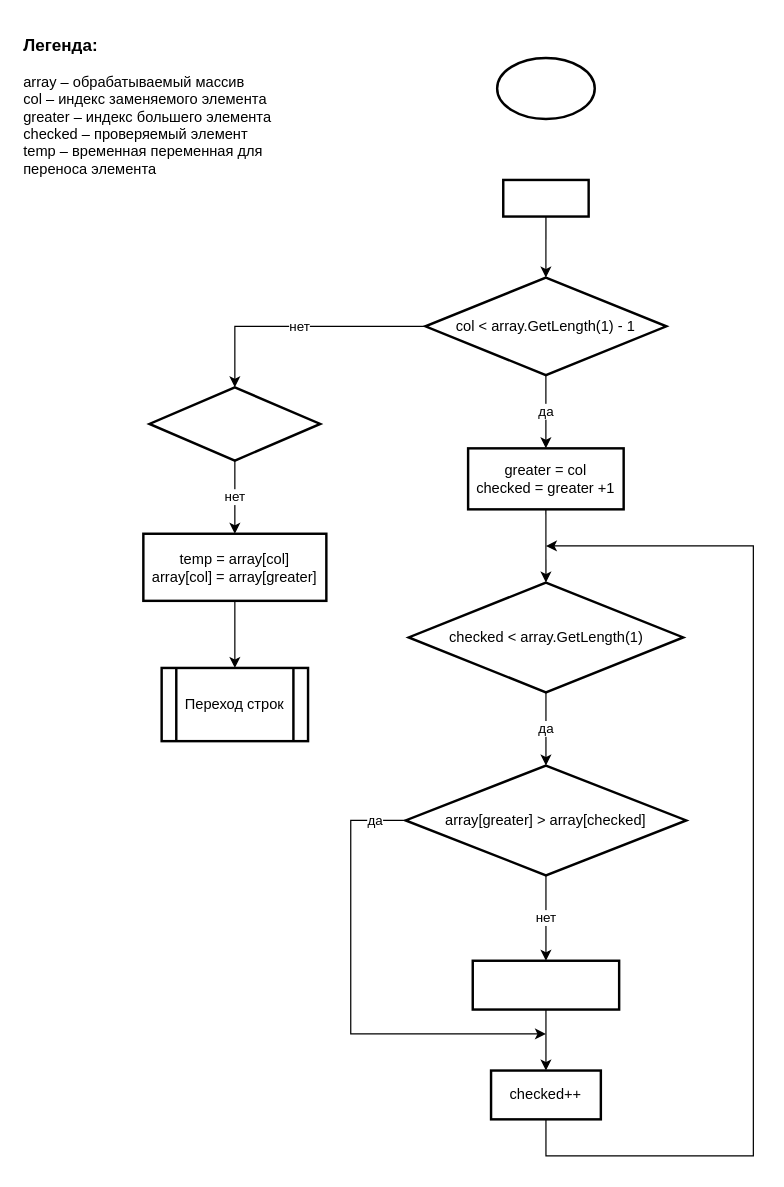
This 784x1187 diagram has some shape labels left out. Each missing label, with the centre of its shape:
col = 0: point (545, 197)
col = greater: point (234, 423)
greater = checked: point (545, 984)
Начало: point (545, 88)
